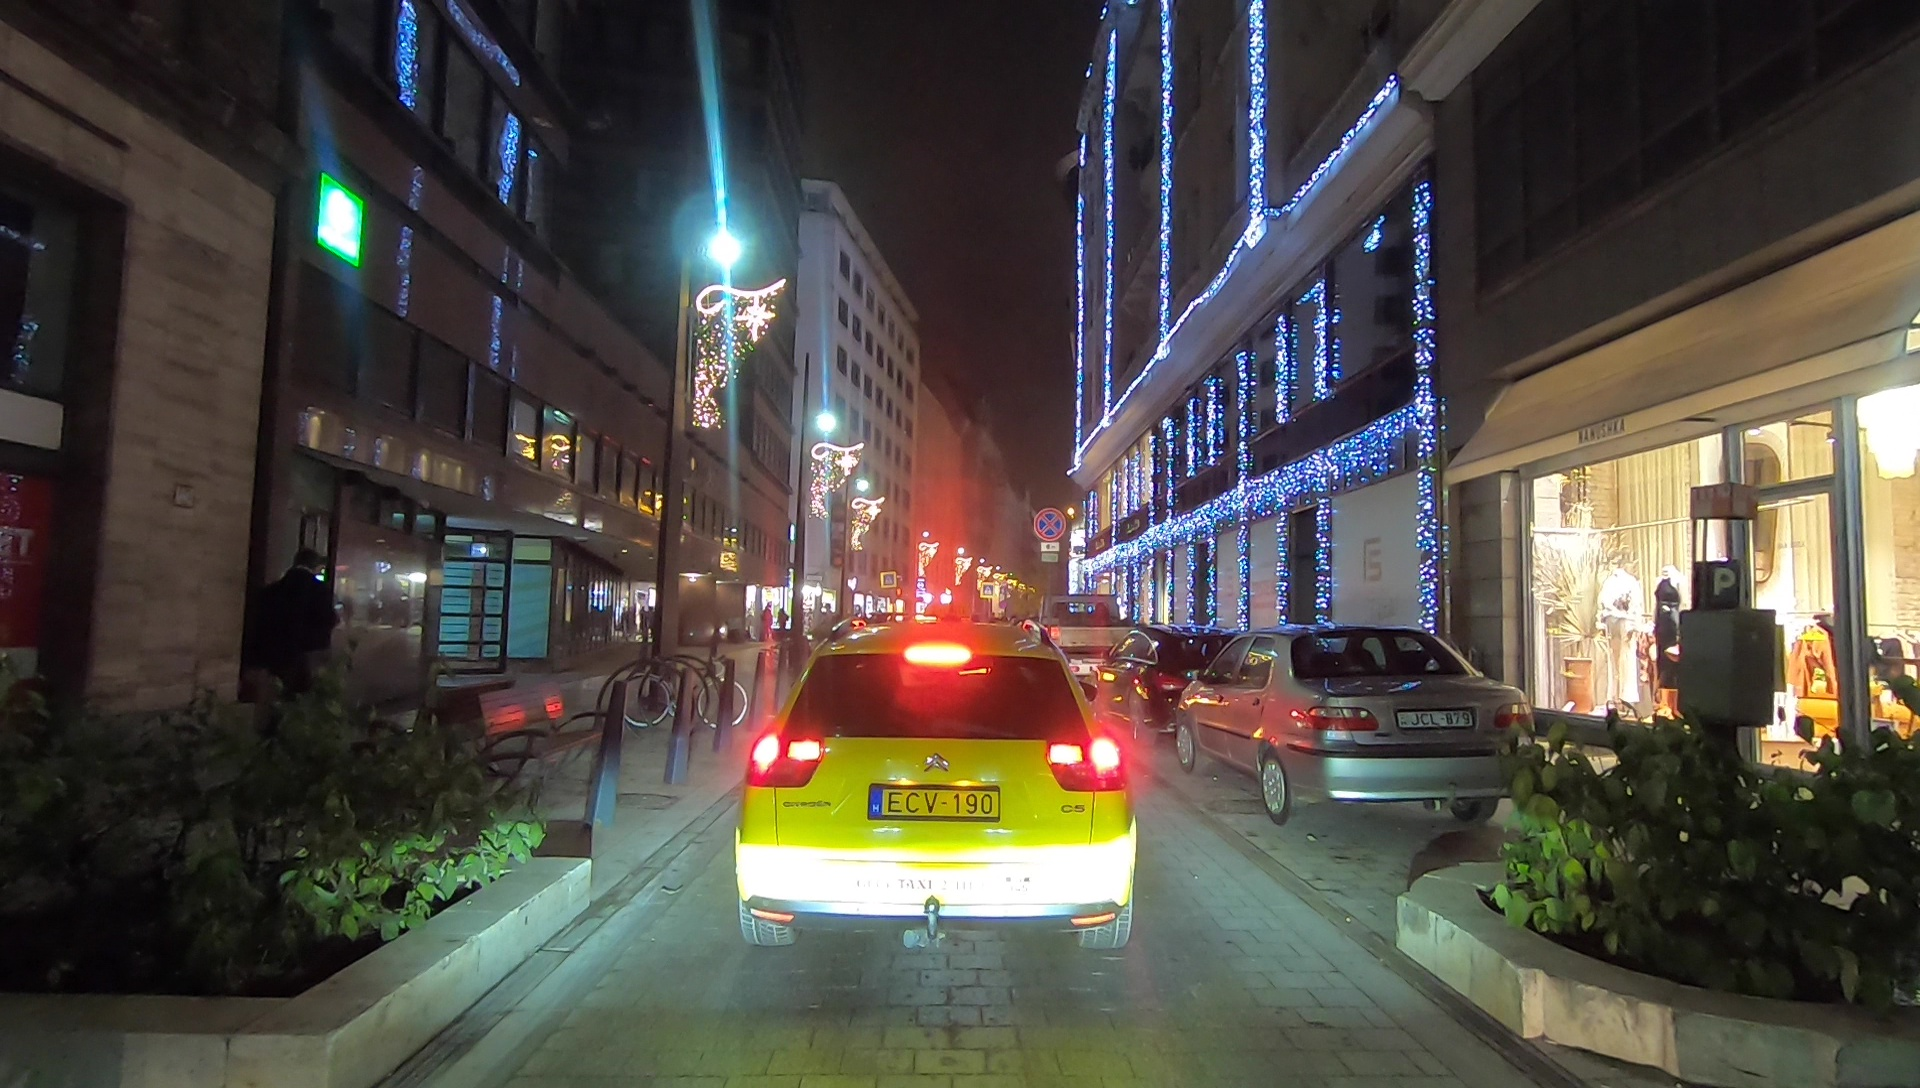person: (254, 547, 343, 739)
